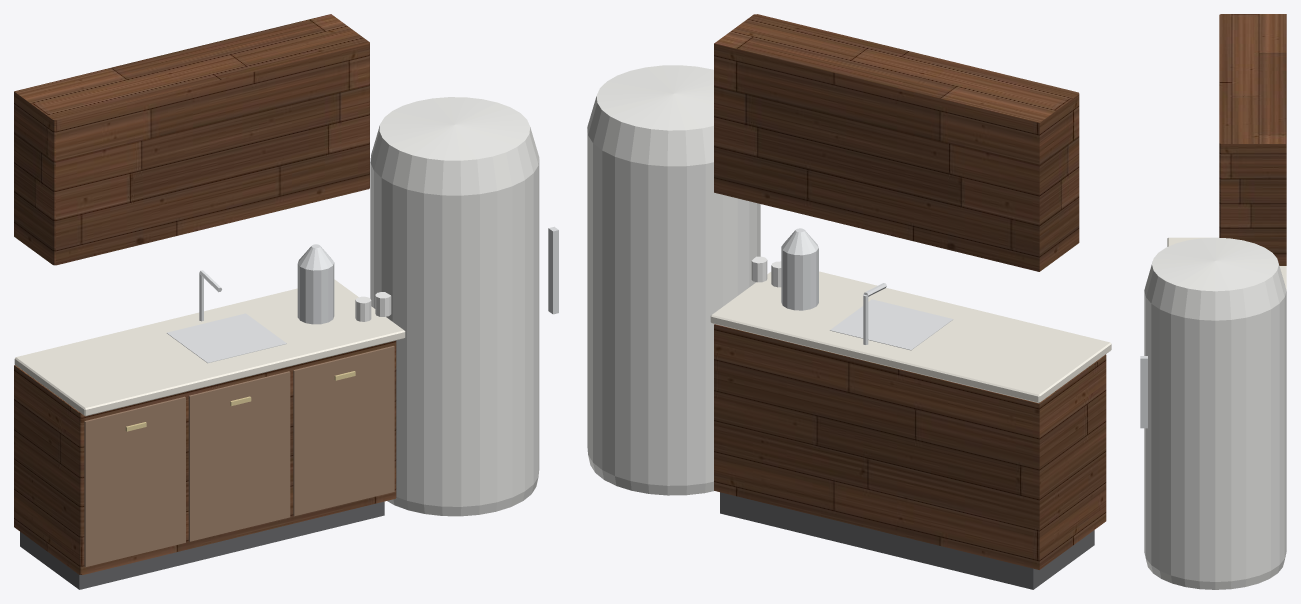
The model's file is kitchenette.glb.
3 views of the same model, side by side, from view 1: azimuth 30°, elevation 25°; view 2: azimuth 150°, elevation 25°; view 3: azimuth 270°, elevation 25° (orthographic). The views are drawn at different scales.
Visible parts, largest first — view 1: kitchenette_walnut, kitchenette_paint_w, kitchenette_dkwood, kitchenette_cream, kitchenette_chrome, kitchenette_dark, kitchenette_porcelain; view 2: kitchenette_walnut, kitchenette_paint_w, kitchenette_cream, kitchenette_dark, kitchenette_chrome, kitchenette_porcelain; view 3: kitchenette_paint_w, kitchenette_walnut, kitchenette_chrome, kitchenette_cream.
Boxes of the visible parts, <box> form: kitchenette_walnut: <box>14,14,396,574</box>; kitchenette_paint_w: <box>370,97,539,516</box>; kitchenette_dkwood: <box>84,346,394,567</box>; kitchenette_cream: <box>14,279,405,416</box>; kitchenette_chrome: <box>167,226,558,363</box>; kitchenette_dark: <box>20,501,384,589</box>; kitchenette_porcelain: <box>355,292,391,321</box>; kitchenette_walnut: <box>714,14,1106,569</box>; kitchenette_paint_w: <box>587,65,760,495</box>; kitchenette_cream: <box>710,271,1111,403</box>; kitchenette_dark: <box>720,492,1094,589</box>; kitchenette_chrome: <box>781,228,953,350</box>; kitchenette_porcelain: <box>751,256,781,287</box>; kitchenette_paint_w: <box>1144,237,1286,589</box>; kitchenette_walnut: <box>1219,14,1286,265</box>; kitchenette_chrome: <box>1140,356,1147,428</box>; kitchenette_cream: <box>1167,237,1286,289</box>.
Bounding box in the file's own units: 2.38 × 2.2 × 0.76.
8 materials, 1 textured.
